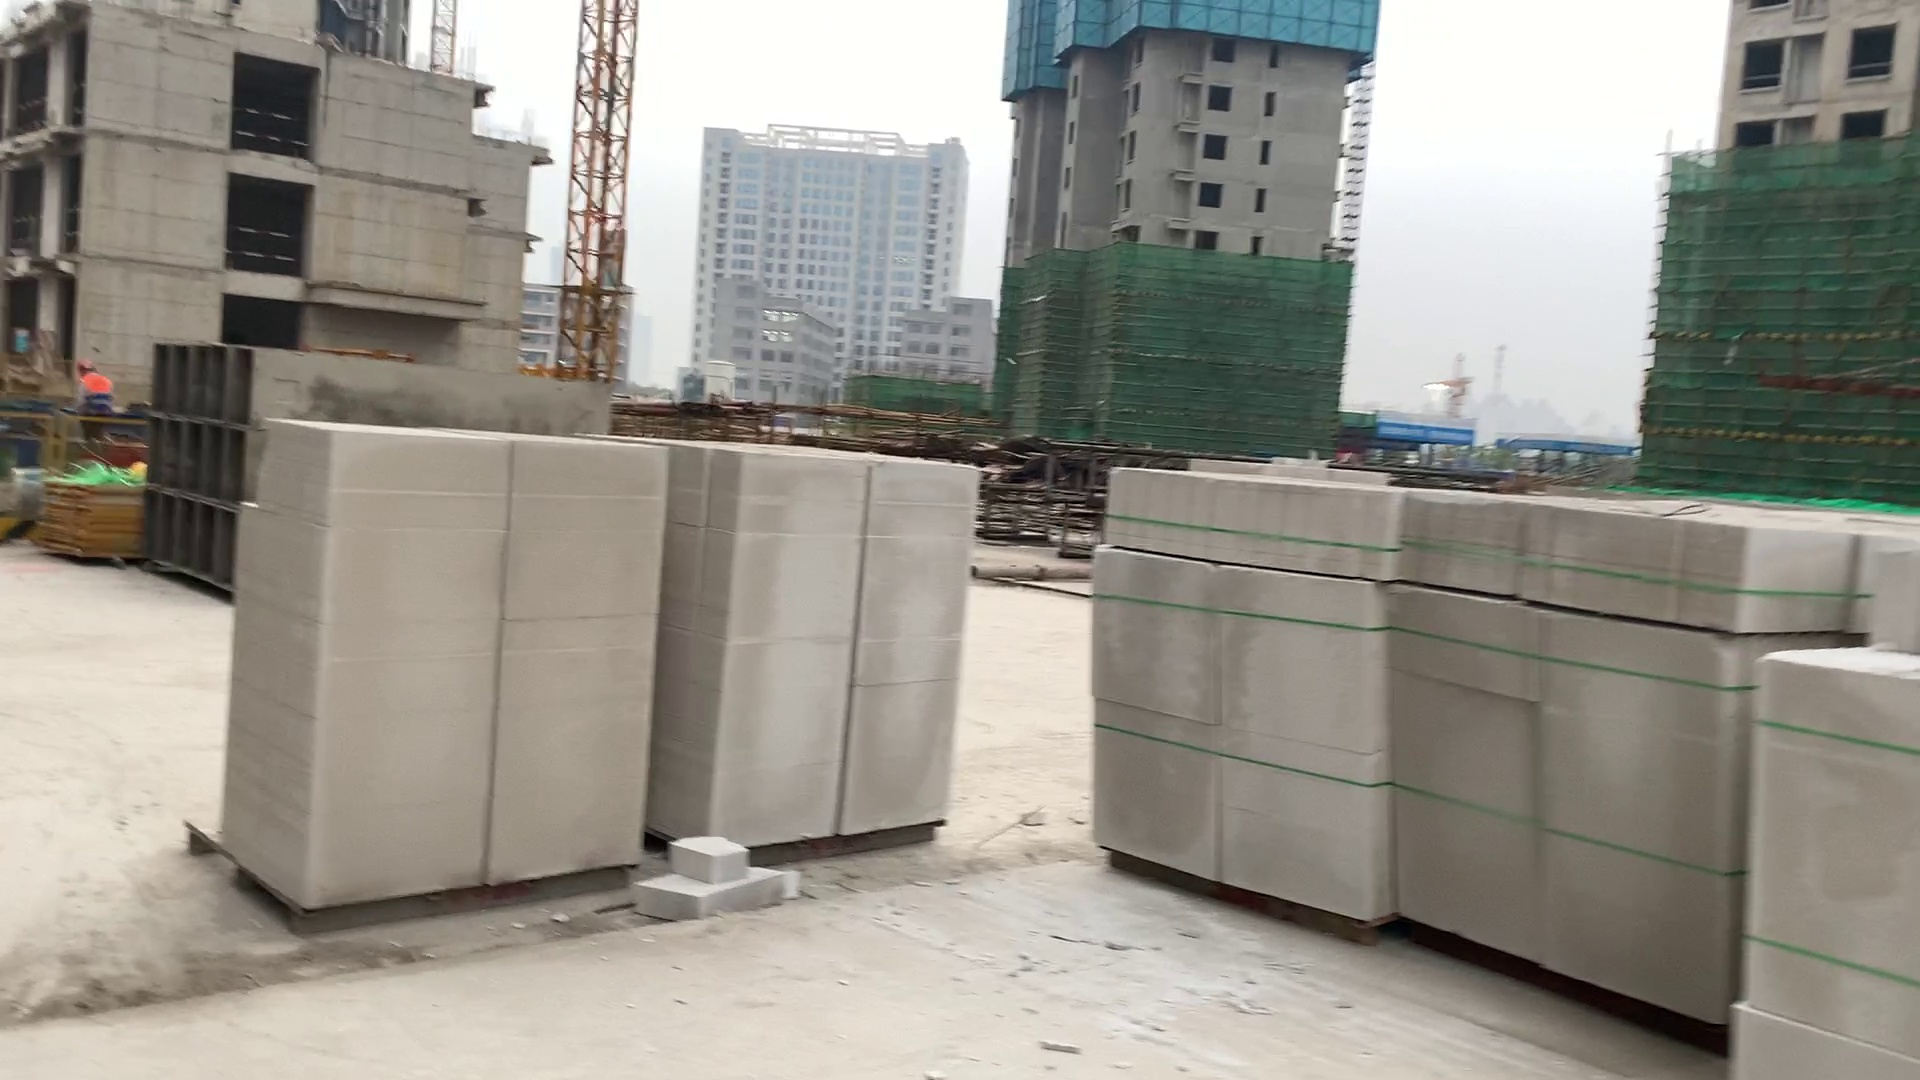brickwork: (237, 422, 653, 902), (1395, 487, 1742, 1036), (1083, 462, 1396, 928), (684, 444, 957, 853), (1734, 553, 1917, 1080)
